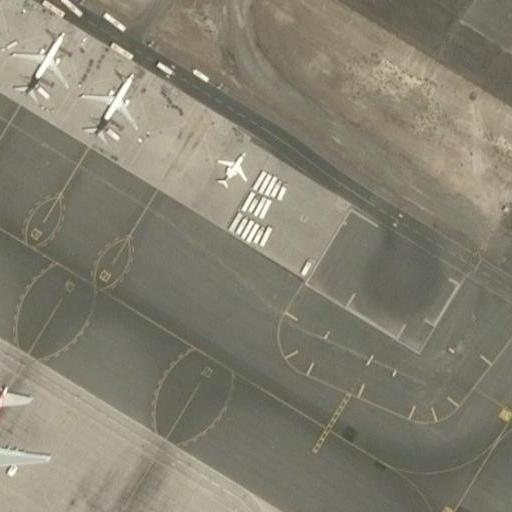Aircraft: (0, 356, 50, 501), (10, 27, 68, 102), (82, 70, 140, 143), (213, 149, 247, 190)
